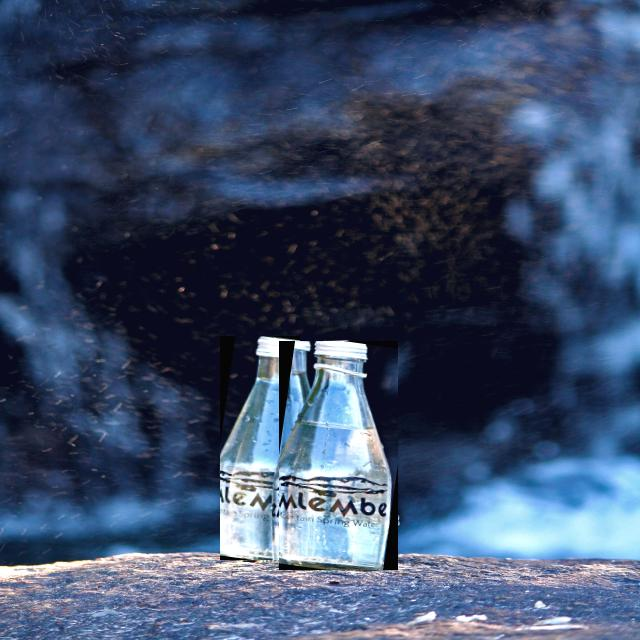Bottle: (280, 341, 398, 569), (220, 337, 300, 560)
